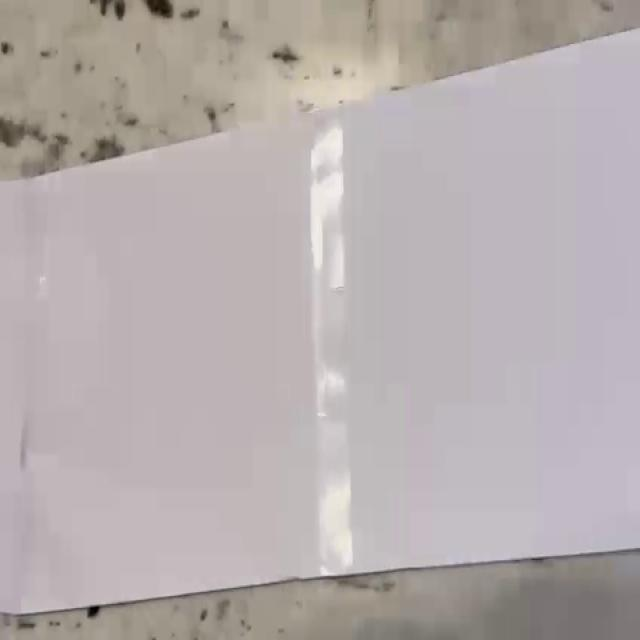road: (0, 29, 640, 615)
